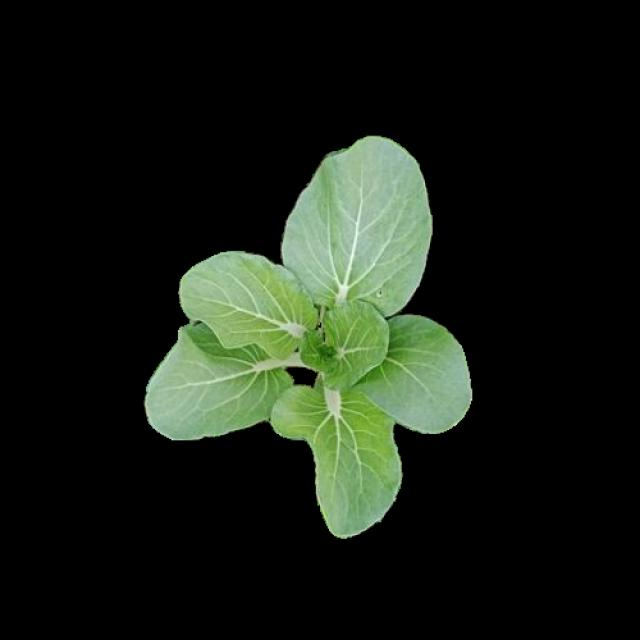healthy: (144, 133, 468, 535)
not-mature: (146, 135, 471, 538)
